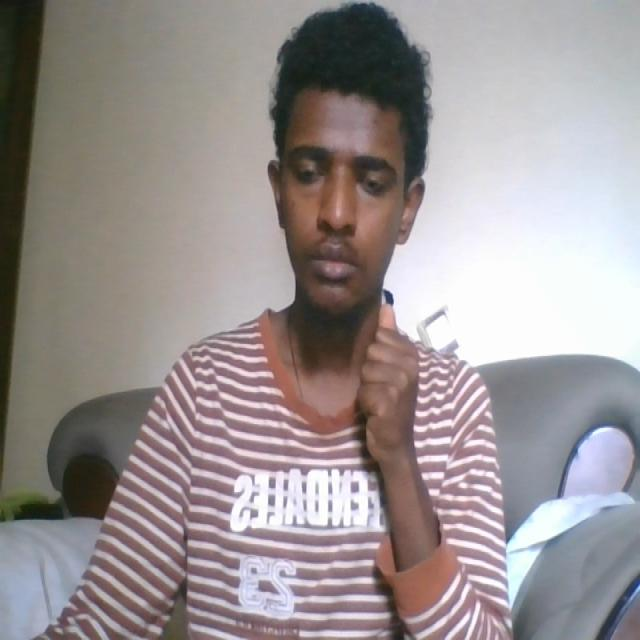akst: (333, 297, 424, 480)
